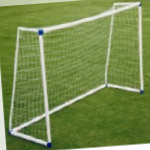goals: (9, 1, 147, 146)
